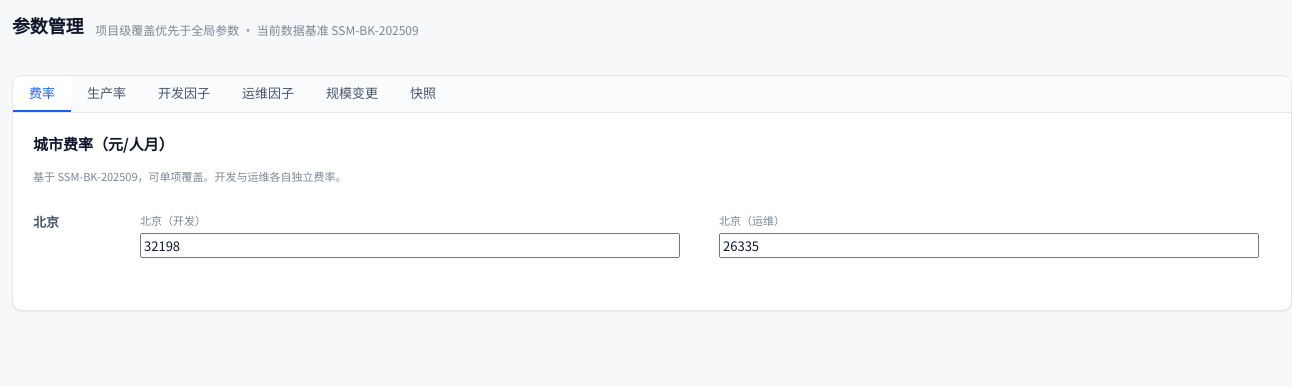
Test case: ParamManager — 快照 tab (GAP-H) › 无快照时显示「暂无快照」
Click the tab "快照": (423, 94) [394,76,452,112]
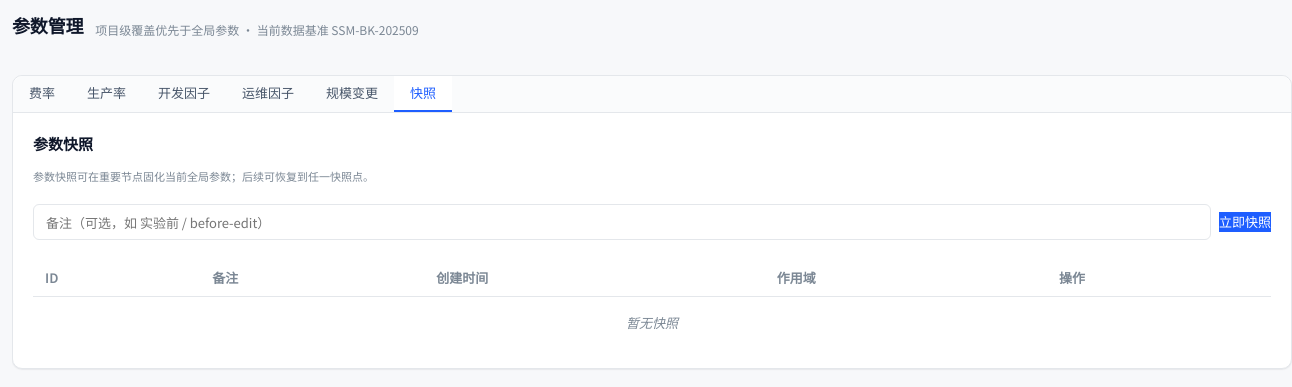
expect the text "暂无快照" is shown: met, box [33,296,1271,348]
